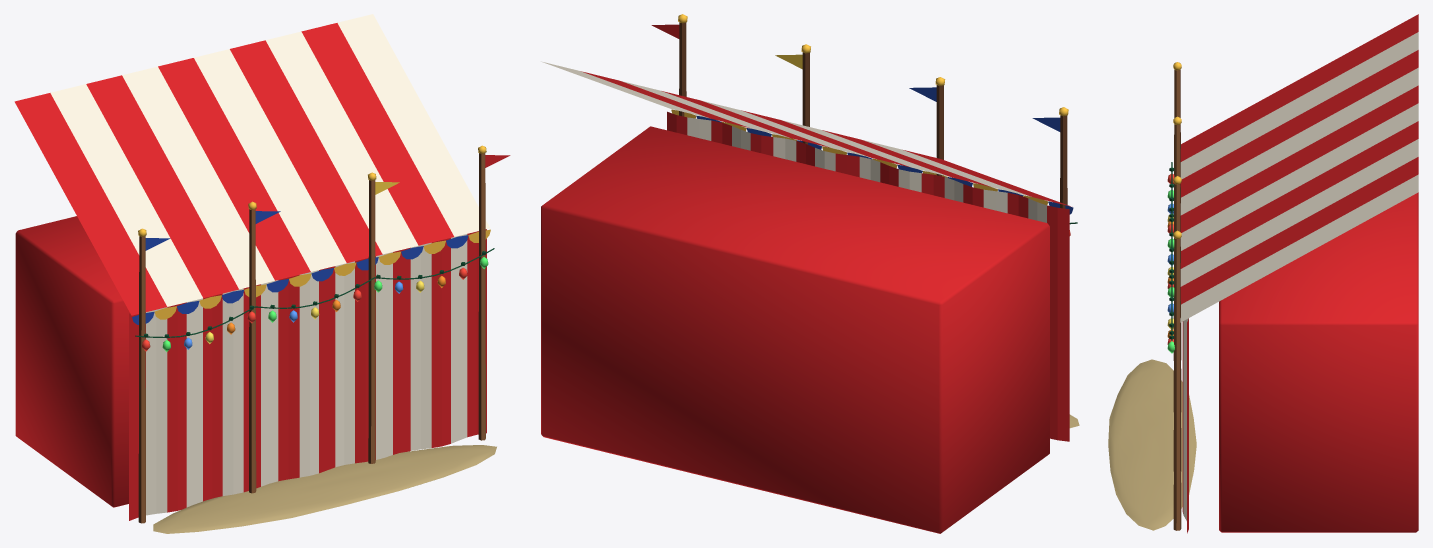
The model's file is CircusWallA.fbx.
3 renders of one model, left to right at view 1: azimuth 30°, elevation 25°; view 2: azimuth 150°, elevation 25°; view 3: azimuth 270°, elevation 25°, orthographic. The views are drawn at different scales.
Visible parts, largest first — view 1: CircusWallA; view 2: CircusWallA; view 3: CircusWallA.
Boxes of the visible parts, x1=… form: CircusWallA: x1=14, y1=14, x2=510, y2=533; CircusWallA: x1=541, y1=14, x2=1079, y2=533; CircusWallA: x1=1108, y1=14, x2=1418, y2=533.
Size of the model in its own units: 8 by 6.8 by 5.6.
Materials: 2 (2 with a texture image).
